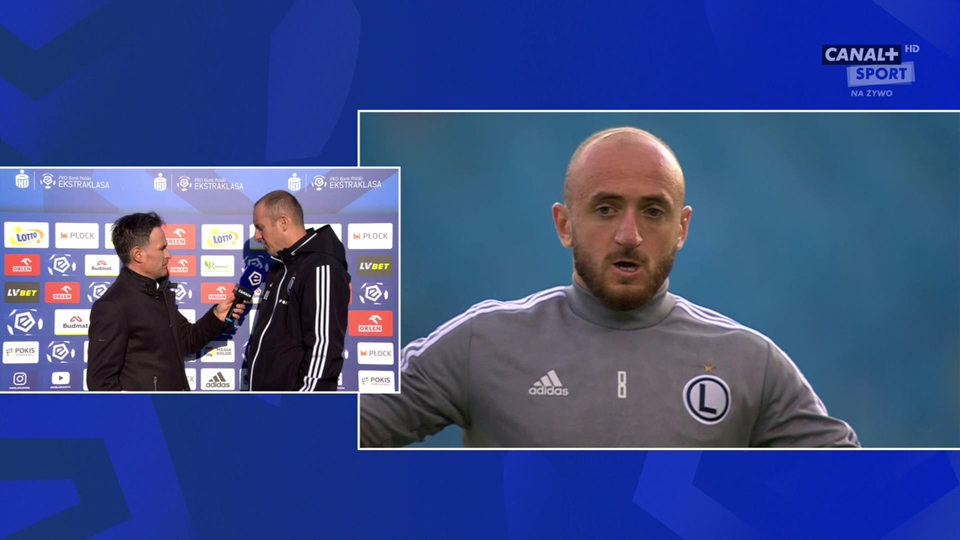Adidas: (528, 368, 572, 397)
